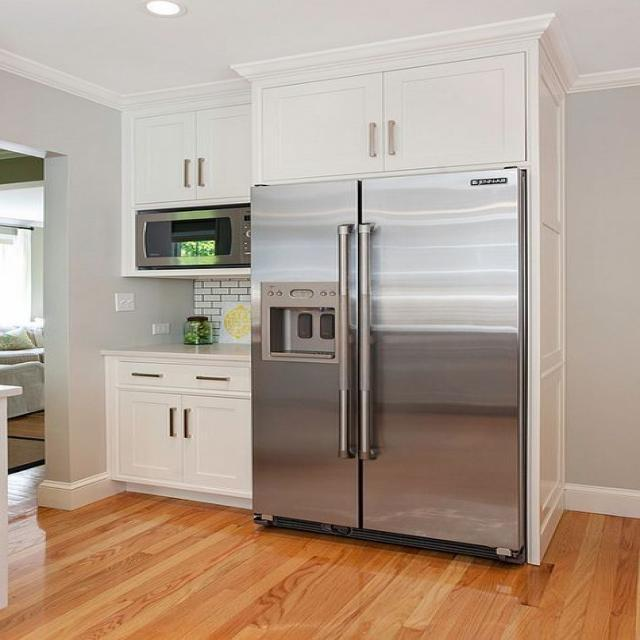obstacle: (247, 166, 532, 564), (101, 350, 252, 510), (0, 318, 45, 419)
